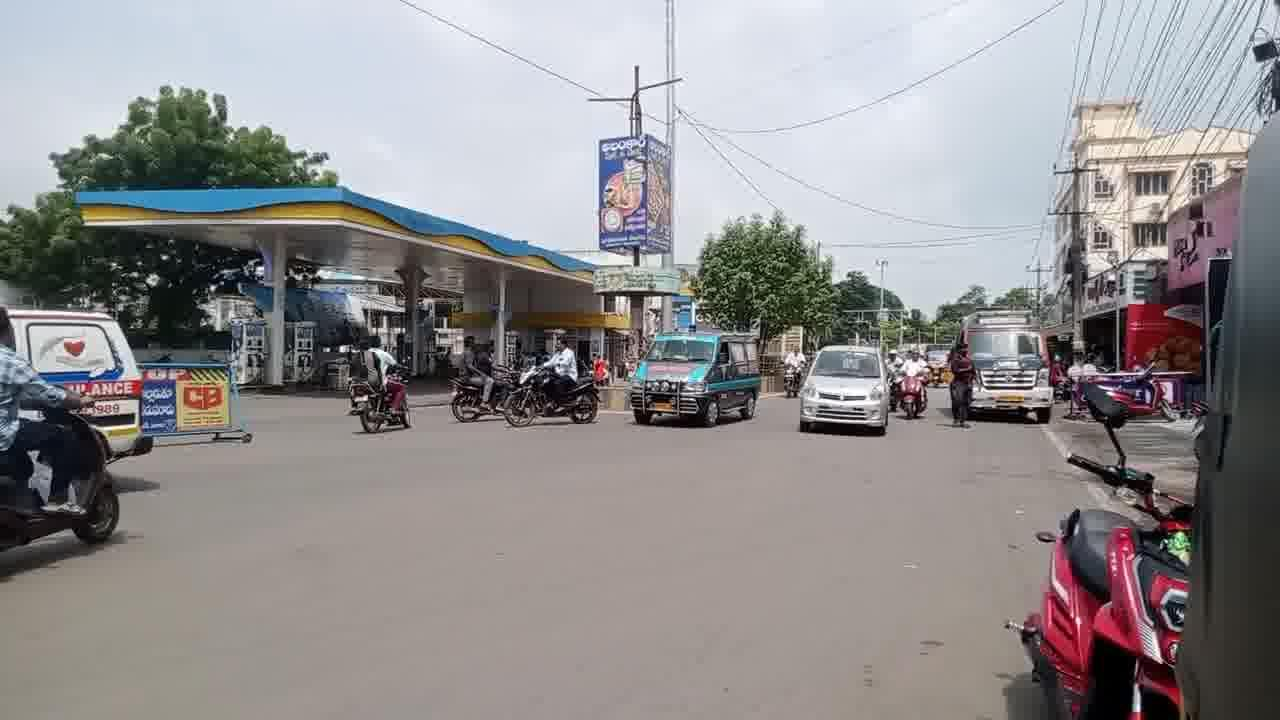AMBULANCE: (617, 303, 774, 419), (957, 298, 1067, 415)
